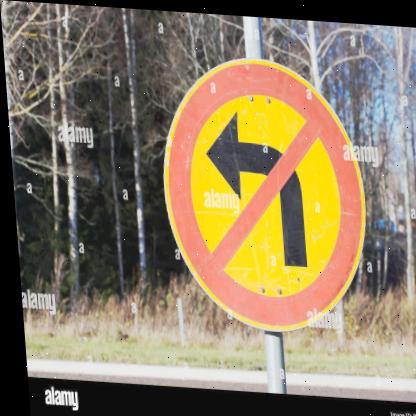No left turn: (151, 46, 367, 340)
